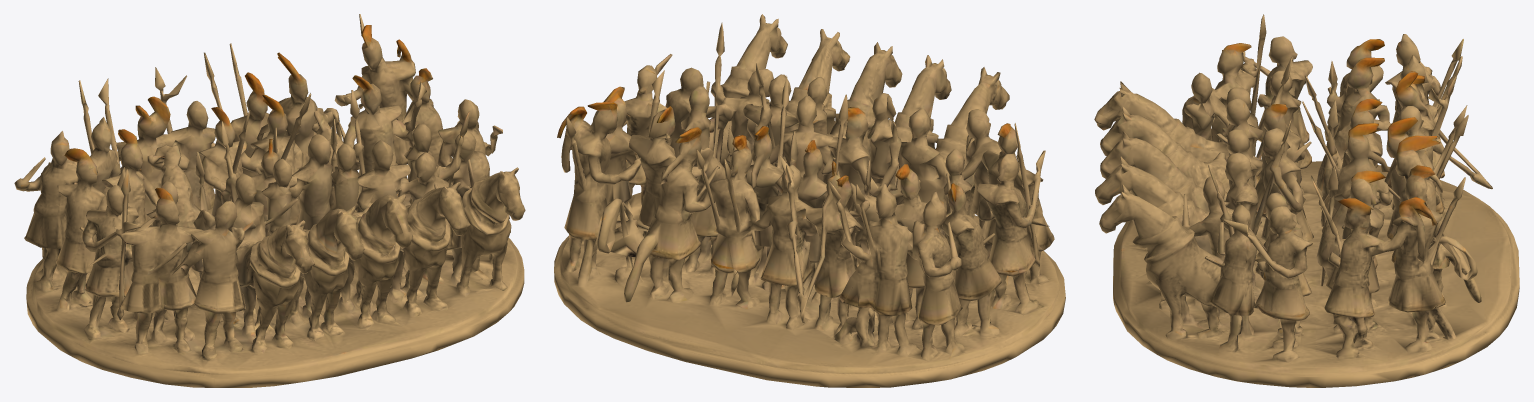
File: terracotta_army.glb
3 renders of one model, left to right at view 1: azimuth 30°, elevation 25°; view 2: azimuth 150°, elevation 25°; view 3: azimuth 270°, elevation 25°, orthographic. The views are drawn at different scales.
Visible parts, largest first — view 1: Mesh_0; view 2: Mesh_0; view 3: Mesh_0.
Part boxes in pixels (x1=…): Mesh_0: x1=14, y1=14, x2=525, y2=387; Mesh_0: x1=554, y1=14, x2=1065, y2=387; Mesh_0: x1=1094, y1=14, x2=1519, y2=387.
Bounding box in the file's own units: 1.9 × 0.8087 × 1.6.
Materials: 1 (1 with a texture image).
